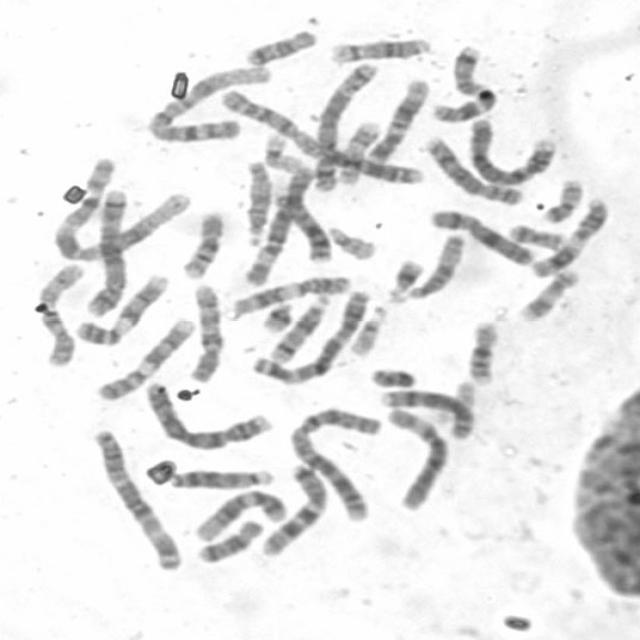A1: (44, 165, 192, 262), (140, 57, 276, 143)
A2: (214, 84, 428, 186), (282, 399, 384, 523)
A3: (84, 422, 185, 572), (244, 282, 375, 386)
B4: (137, 375, 276, 451), (461, 112, 560, 186)
B5: (307, 55, 381, 194), (79, 181, 132, 318)
C10: (29, 256, 87, 368), (182, 276, 226, 384)
C11: (522, 191, 612, 279), (221, 269, 353, 319)
C12: (361, 71, 431, 165), (188, 482, 290, 544)
C6: (236, 158, 318, 286), (377, 399, 454, 513)
C7: (252, 456, 331, 557), (423, 39, 499, 124)
C8: (416, 129, 526, 207), (372, 382, 477, 440)
C9: (88, 309, 197, 402), (67, 266, 172, 346)
D13: (264, 183, 334, 264), (162, 460, 276, 491)
D14: (260, 288, 333, 364), (322, 30, 434, 64)
D15: (397, 227, 467, 302), (238, 153, 274, 247)
E16: (173, 203, 227, 281), (459, 314, 502, 386)
E17: (511, 262, 583, 323), (331, 114, 381, 186)
E18: (190, 513, 266, 565), (238, 22, 320, 66)
F19: (426, 376, 479, 425), (256, 126, 309, 174)
F20: (536, 172, 586, 224), (502, 217, 567, 250)
G21: (380, 251, 426, 304), (255, 294, 298, 334)
G22: (342, 300, 391, 357), (320, 219, 380, 261)
X: (422, 202, 538, 267)
Y: (363, 361, 419, 389)
